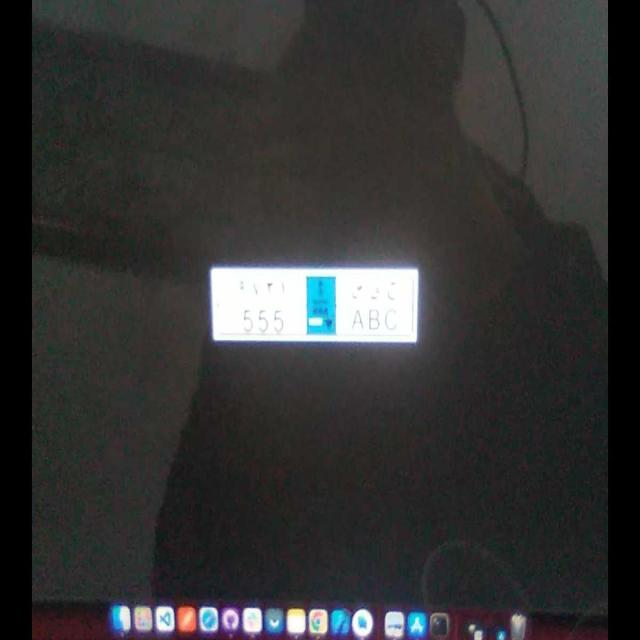license_plate: (230, 302, 406, 340)
